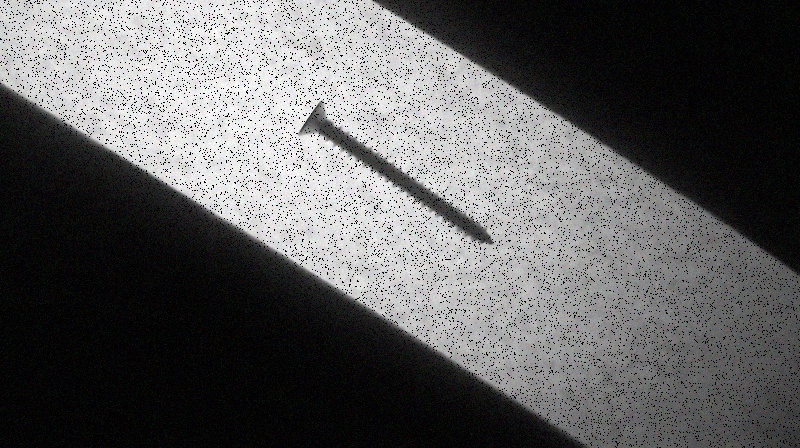S002: (293, 97, 496, 246)
